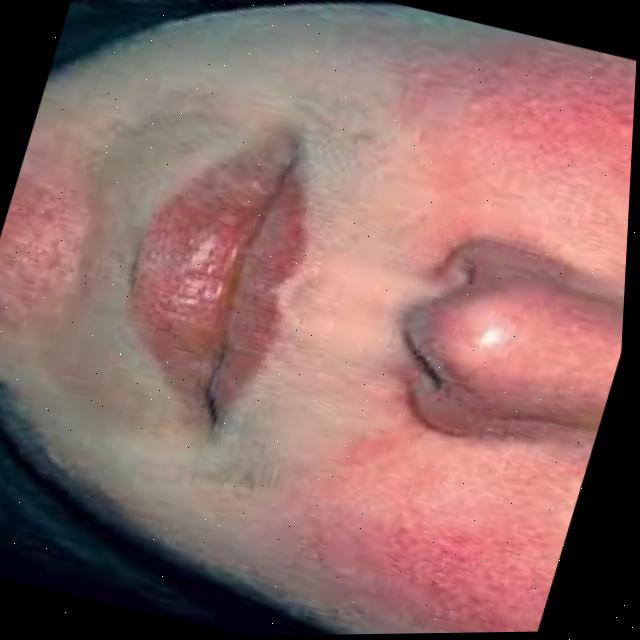Rosacea: (344, 2, 639, 267), (279, 397, 592, 635), (417, 239, 627, 454), (0, 143, 118, 364)
